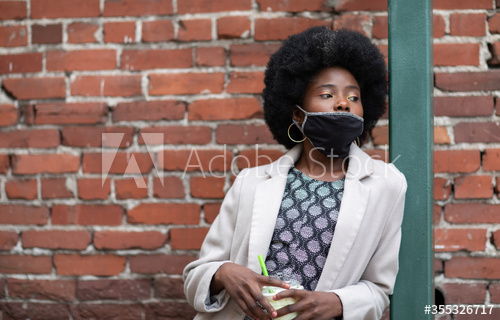mask_weared_incorrect: (305, 82, 365, 150)
